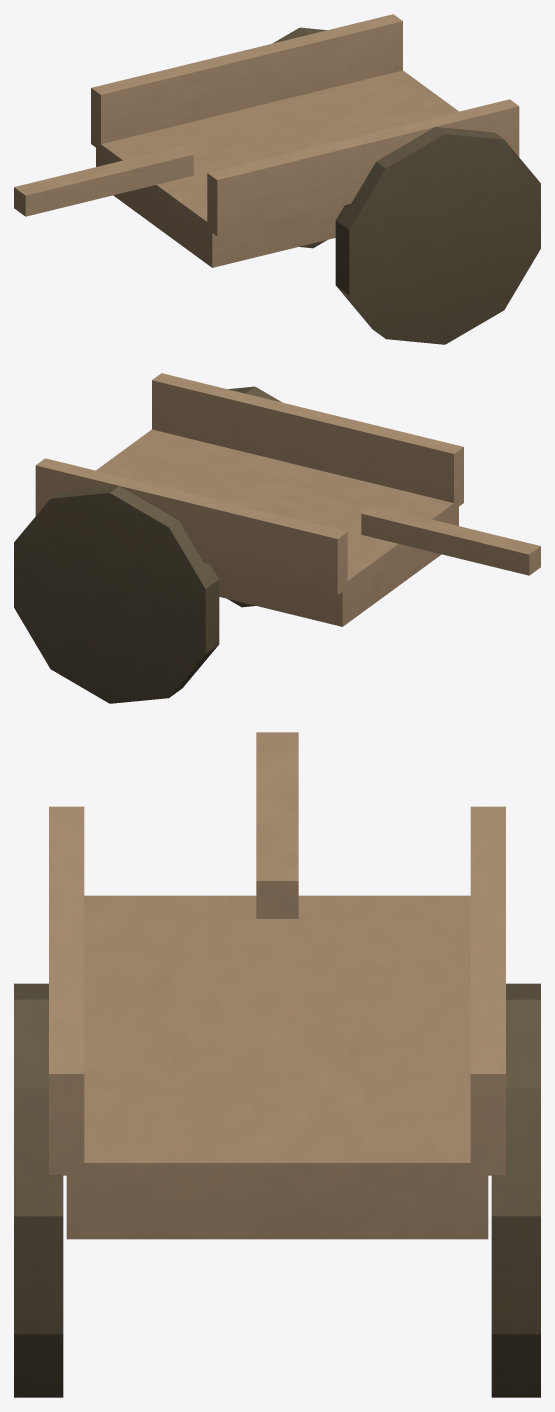
File: cart.glb
3 renders of one model, top to bottom at view 1: azimuth 30°, elevation 25°; view 2: azimuth 150°, elevation 25°; view 3: azimuth 270°, elevation 25°, orthographic. The views are drawn at different scales.
Visible parts, largest first — view 1: cart; view 2: cart; view 3: cart.
Boxes of the visible parts, bbox=[...] form: cart: bbox=[14, 14, 540, 344]; cart: bbox=[14, 373, 540, 703]; cart: bbox=[14, 732, 540, 1397].
Bounding box in the file's own units: 1.34 × 0.6 × 0.75.
1 material, 1 textured.
